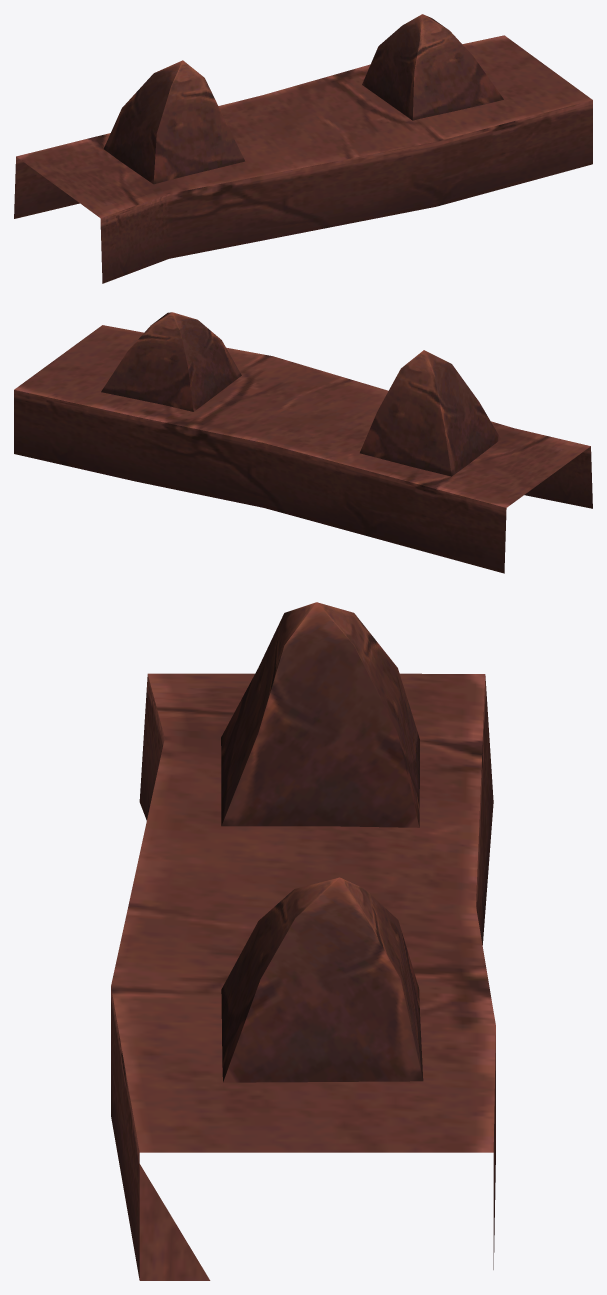
File: lava_cap_straight_01.fbx
The picture shows the model from 3 angles, top to bottom: view 1: azimuth 30°, elevation 25°; view 2: azimuth 150°, elevation 25°; view 3: azimuth 270°, elevation 25°; orthographic projection. The views are drawn at different scales.
Visible parts, largest first — view 1: lava_cap_straight_01-0; view 2: lava_cap_straight_01-0; view 3: lava_cap_straight_01-0.
Boxes of the visible parts, box(x1,y1,x2,y2) form: lava_cap_straight_01-0: box(14, 14, 592, 283); lava_cap_straight_01-0: box(14, 312, 592, 573); lava_cap_straight_01-0: box(111, 602, 495, 1280).
Size of the model in its own units: 4 by 1.25 by 1.36.
